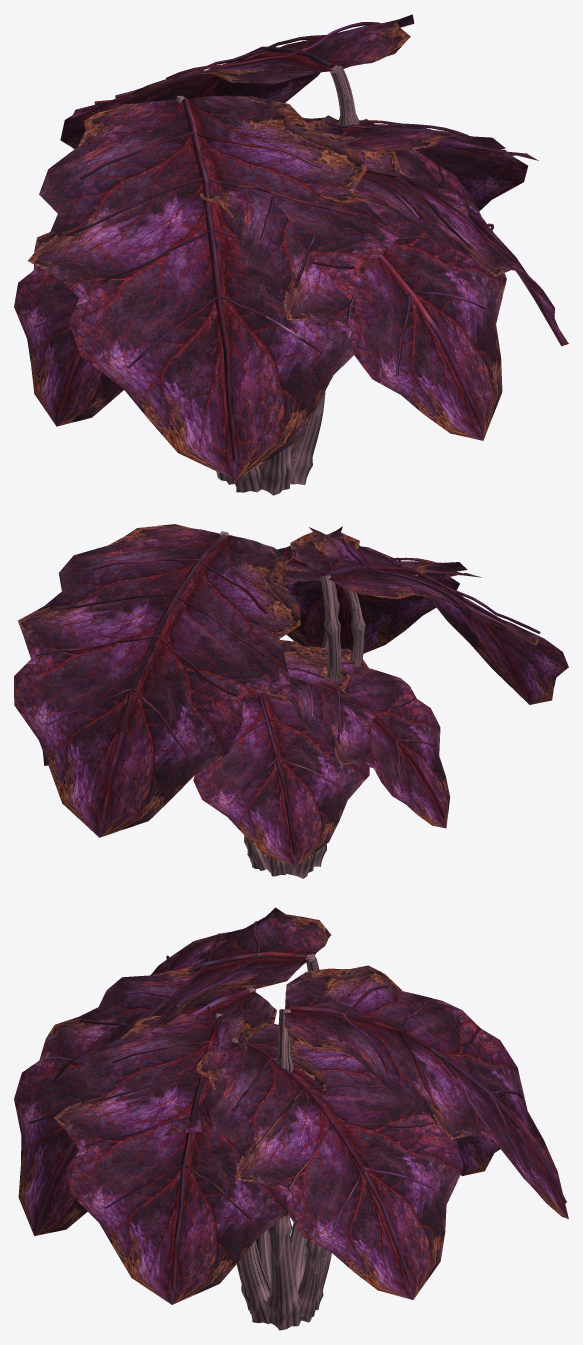
File: giantleaf_00.glb
The picture shows the model from 3 angles, top to bottom: view 1: azimuth 30°, elevation 25°; view 2: azimuth 150°, elevation 25°; view 3: azimuth 270°, elevation 25°; orthographic projection. The views are drawn at different scales.
Parts seen in each view (by area): view 1: export; view 2: export; view 3: export.
Boxes of the visible parts, x1=… form: export: x1=14, y1=14, x2=568, y2=495; export: x1=14, y1=524, x2=568, y2=878; export: x1=14, y1=907, x2=568, y2=1330.
Size of the model in its own units: 2.37 by 1.64 by 2.44.
3 materials, 3 textured.
